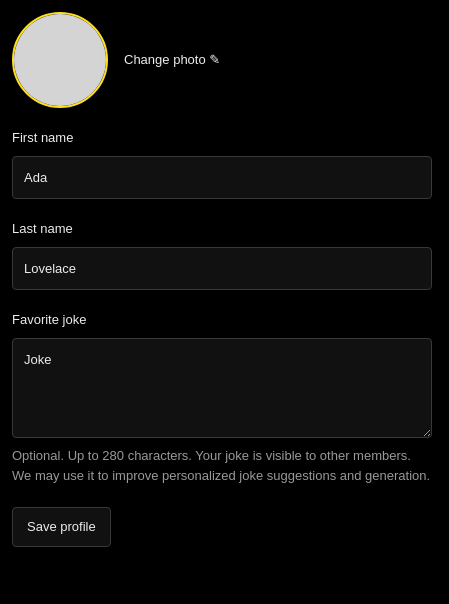
it: retains the draft when saving fails
This screenshot has width=449, height=604.
Replace the text in the text box labelled "Favorite joke" with "Pending" at (222, 388), box [12,338,432,438]
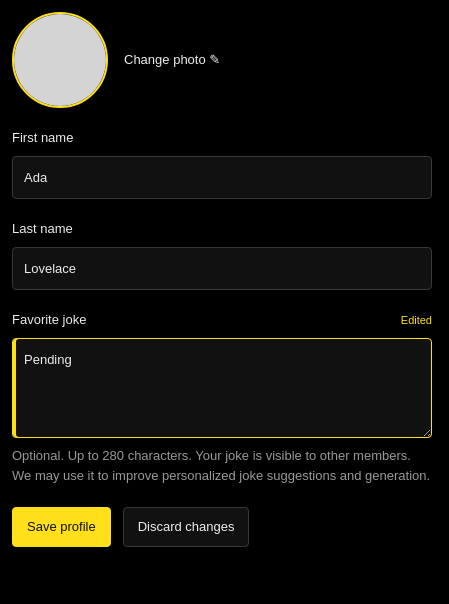
Click the button "Save profile" at (61, 527), box [12,507,111,547]
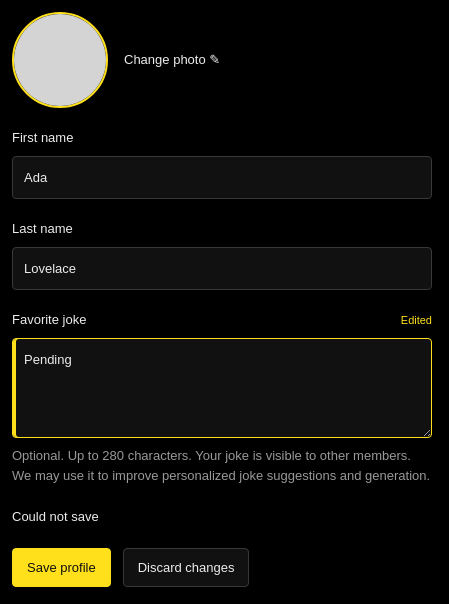
Expected: the text "Could not save" is shown, [12,509,99,524]
